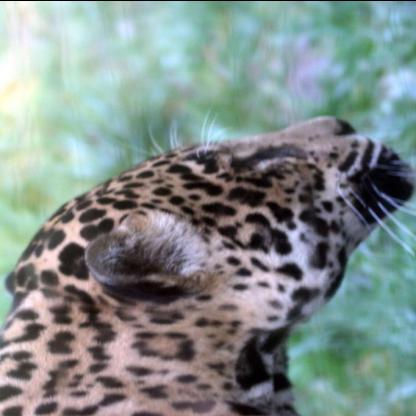leopard: (4, 102, 416, 316)
